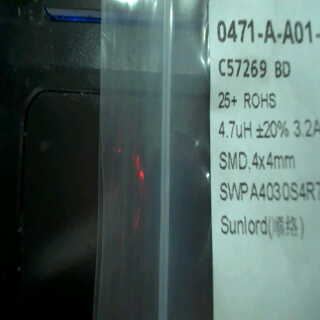4.7uH: (214, 116, 256, 146)
